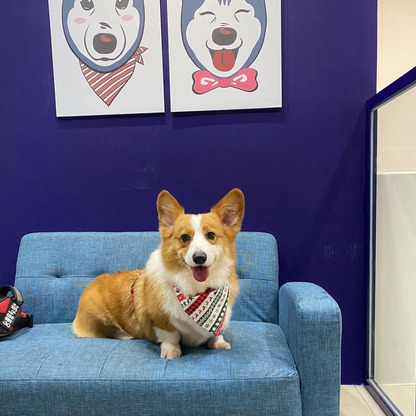Corgi: (64, 163, 268, 365)
